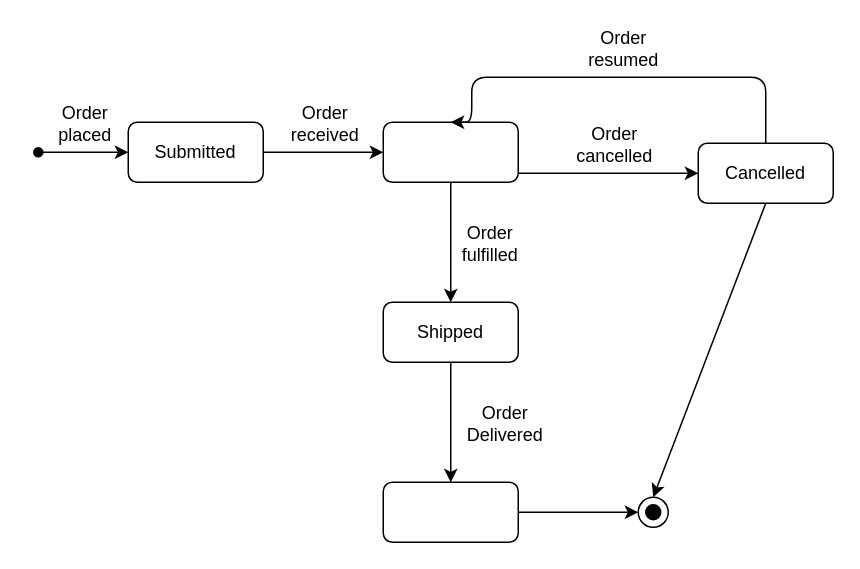
The diagram is 860 pixels wide and 569 high, and some of its shapes have lost their labels. The shapes that lost their labels are listed below. From the top down, each one's centre as x and y in pixels, then its label:
[450,151]: Processing
[450,511]: Completed
